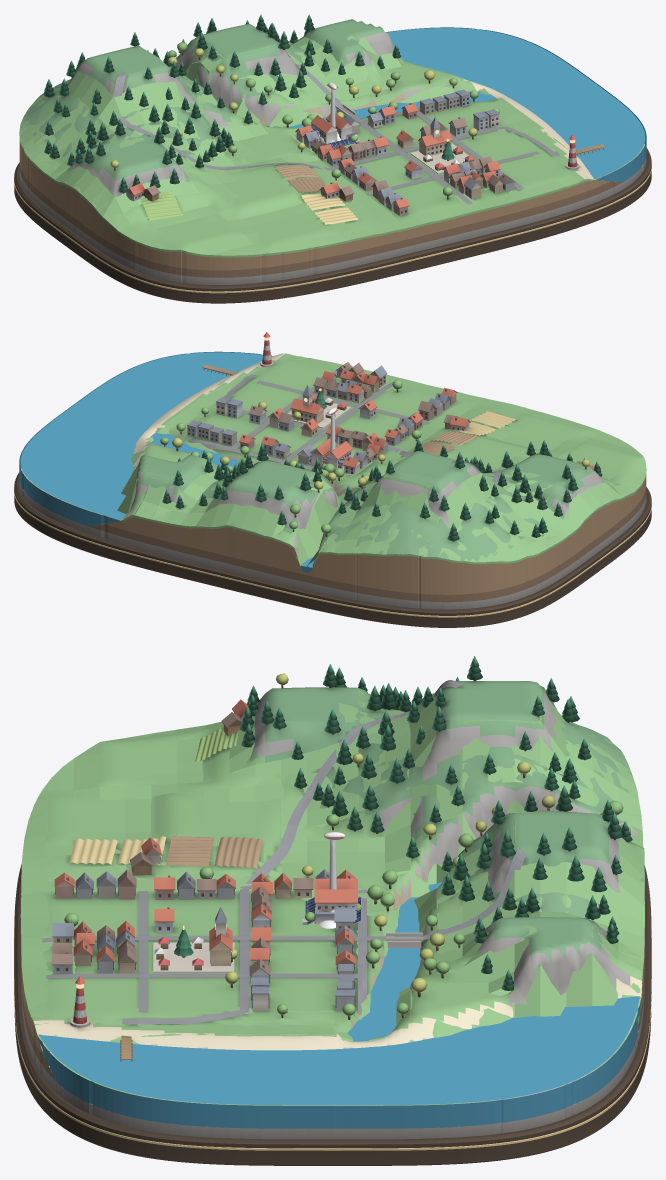
File: green.glb
3 renders of one model, top to bottom at view 1: azimuth 30°, elevation 25°; view 2: azimuth 150°, elevation 25°; view 3: azimuth 270°, elevation 25°, orthographic. The views are drawn at different scales.
Parts seen in each view (by area): view 1: GreenGround, GreenBase, GreenHit, GreenWater, GreenTrees, GreenTown, GreenRoads, GreenFields, GreenHomes; view 2: GreenGround, GreenBase, GreenHit, GreenWater, GreenTown, GreenTrees, GreenRoads, GreenFields, GreenHomes; view 3: GreenGround, GreenHit, GreenWater, GreenBase, GreenTrees, GreenTown, GreenRoads, GreenFields, GreenHomes.
Boxes of the visible parts, bbox=[...] form: GreenGround: bbox=[19, 19, 644, 255]; GreenBase: bbox=[14, 139, 651, 303]; GreenHit: bbox=[19, 35, 644, 255]; GreenWater: bbox=[211, 27, 646, 257]; GreenTrees: bbox=[43, 14, 499, 199]; GreenTown: bbox=[126, 89, 605, 215]; GreenRoads: bbox=[114, 42, 559, 204]; GreenFields: bbox=[140, 165, 358, 224]; GreenHomes: bbox=[311, 113, 353, 144]; GreenGround: bbox=[21, 353, 644, 568]; GreenBase: bbox=[14, 472, 651, 627]; GreenHit: bbox=[23, 353, 646, 567]; GreenWater: bbox=[19, 351, 344, 572]; GreenTown: bbox=[187, 332, 600, 474]; GreenTrees: bbox=[160, 380, 602, 541]; GreenRoads: bbox=[188, 369, 501, 482]; GreenFields: bbox=[410, 411, 606, 478]; GreenHomes: bbox=[310, 438, 352, 469]; GreenGround: bbox=[21, 681, 644, 1105]; GreenHit: bbox=[20, 689, 644, 1126]; GreenWater: bbox=[38, 881, 641, 1128]; GreenBase: bbox=[14, 864, 651, 1165]; GreenTrees: bbox=[64, 656, 632, 1019]; GreenTown: bbox=[52, 699, 356, 1061]; GreenRoads: bbox=[42, 680, 526, 1024]; GreenFields: bbox=[69, 727, 263, 868]; GreenHomes: bbox=[314, 878, 361, 920].
Bounding box in the file's own units: 1.06 × 0.2589 × 0.757.
